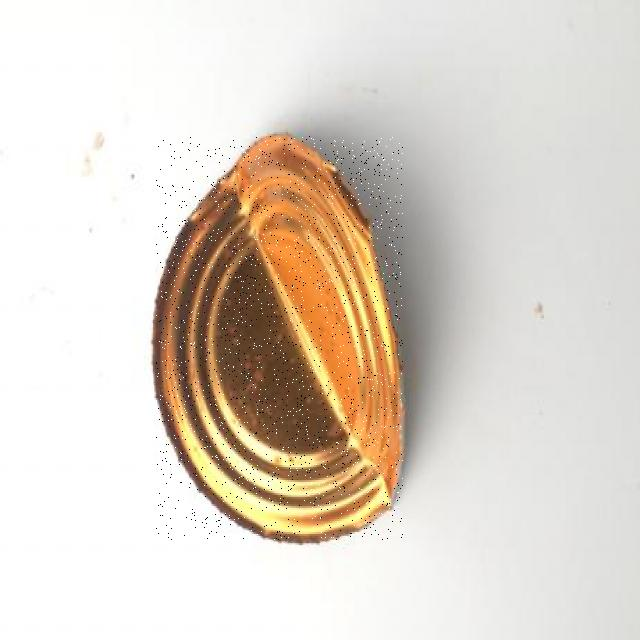metal: (156, 136, 403, 540)
